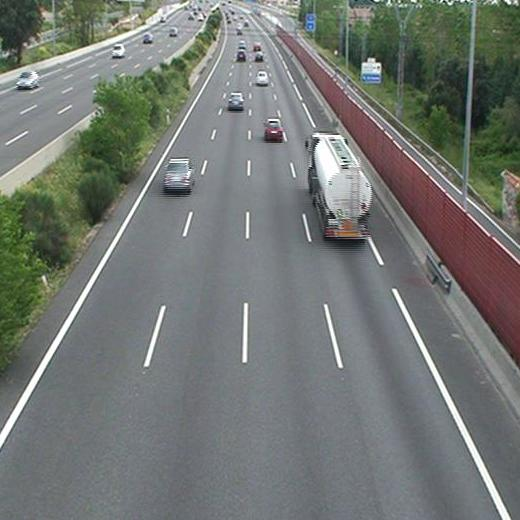car: (164, 160, 192, 187), (266, 119, 282, 137), (228, 93, 245, 109), (255, 71, 268, 85), (236, 49, 246, 61), (254, 51, 262, 60)
tank-truck: (308, 133, 371, 238)
